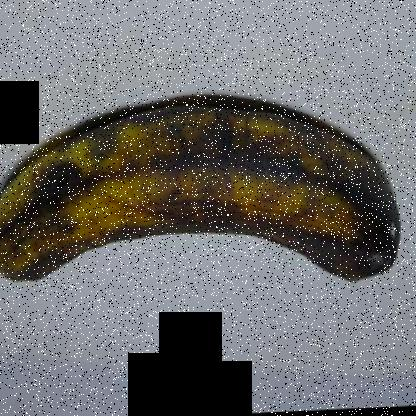overripe: (0, 89, 412, 308)
rotten: (318, 141, 415, 285)
